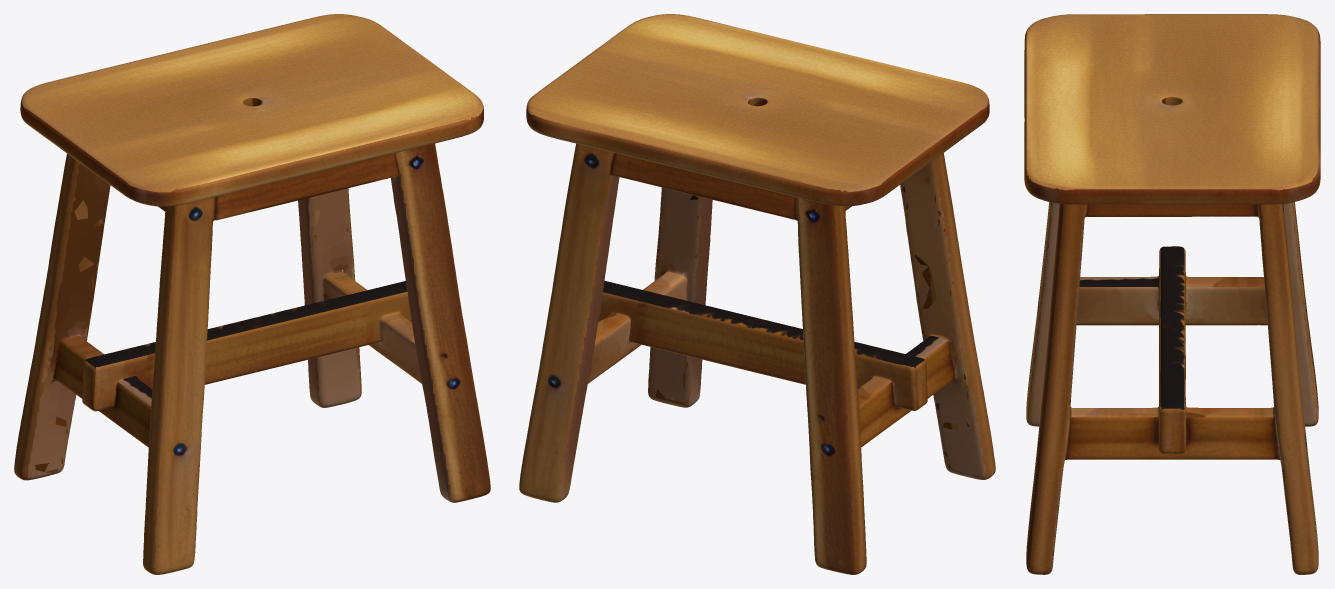
The model's file is stool__stool#3.glb.
3 views of the same model, side by side, from view 1: azimuth 30°, elevation 25°; view 2: azimuth 150°, elevation 25°; view 3: azimuth 270°, elevation 25° (orthographic). The views are drawn at different scales.
Parts seen in each view (by area): view 1: tmp6p4g9e9x.ply; view 2: tmp6p4g9e9x.ply; view 3: tmp6p4g9e9x.ply.
Boxes of the visible parts, box(x1,y1,x2,y2) form: tmp6p4g9e9x.ply: box(14, 14, 490, 574); tmp6p4g9e9x.ply: box(519, 14, 995, 574); tmp6p4g9e9x.ply: box(1024, 14, 1320, 574).
Size of the model in its own units: 1.92 by 1.99 by 1.36.
Materials: 1 (1 with a texture image).
